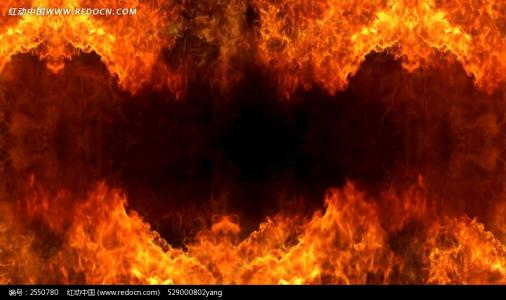fire: (32, 205, 505, 288), (12, 22, 505, 98)
